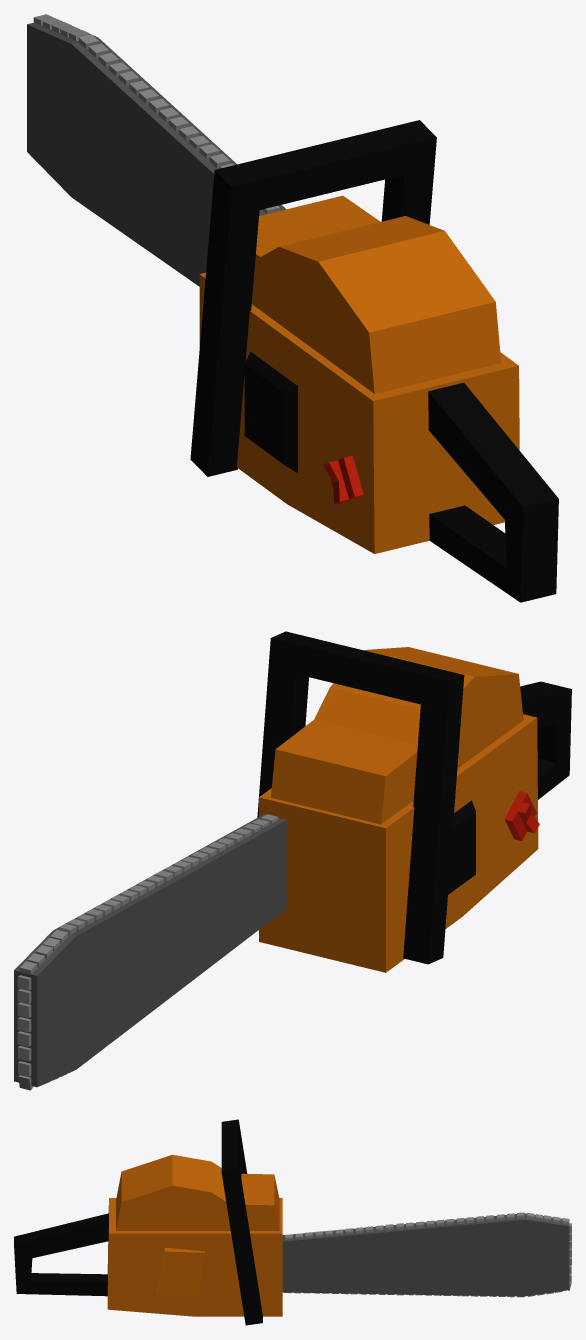
The model's file is chainsaw_KrivoRukiy.fbx.
3 renders of one model, top to bottom at view 1: azimuth 30°, elevation 25°; view 2: azimuth 150°, elevation 25°; view 3: azimuth 270°, elevation 25°, orthographic. The views are drawn at different scales.
Visible parts, largest first — view 1: Куб.002; view 2: Куб.002; view 3: Куб.002.
Part boxes in pixels (box(x1,y1,x2,y2)): Куб.002: box(27, 14, 558, 602); Куб.002: box(14, 631, 571, 1090); Куб.002: box(14, 1119, 571, 1325).
Size of the model in its own units: 101 by 146 by 474.
